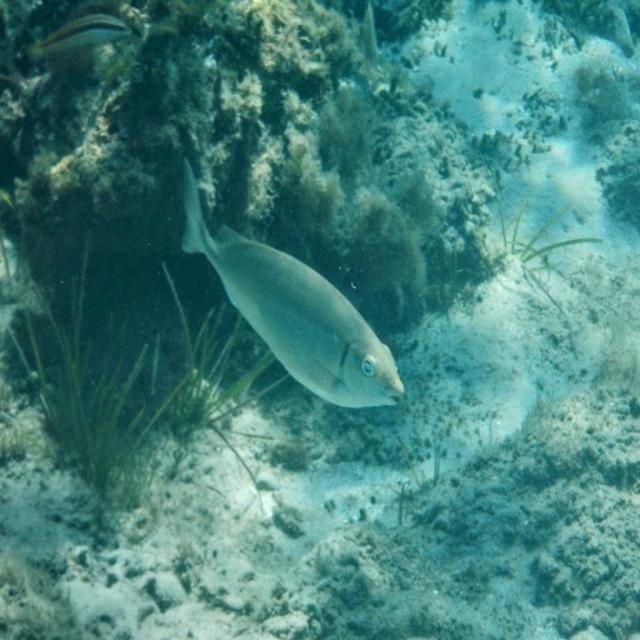Sokar Baligi: (175, 139, 410, 420)
